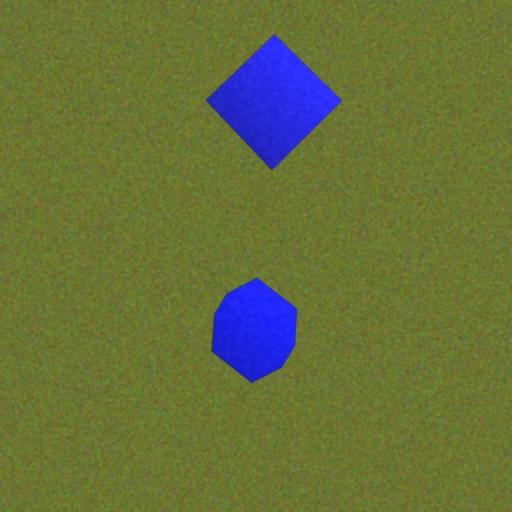BLUE_SQUARE: (205, 34, 342, 171)
